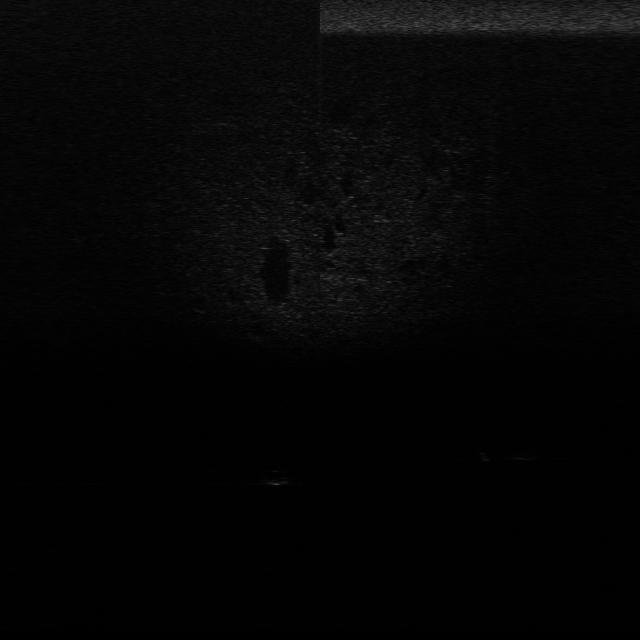ball: (257, 466, 294, 490)
human body: (473, 440, 552, 462)
